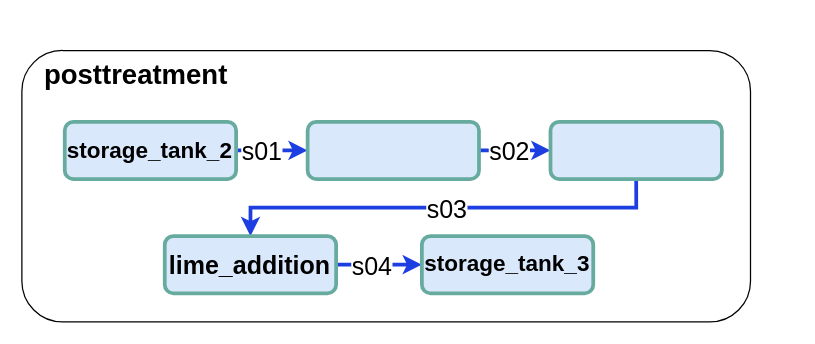
Image size: 815x344. Some labels were removed from this diagram. The shapes that lost their labels are listed below. From the top down, each one's centre as x and y in pixels, then its label:
At pixel 392 149: "uv_aop".
At pixel 635 149: "co2_addition".
